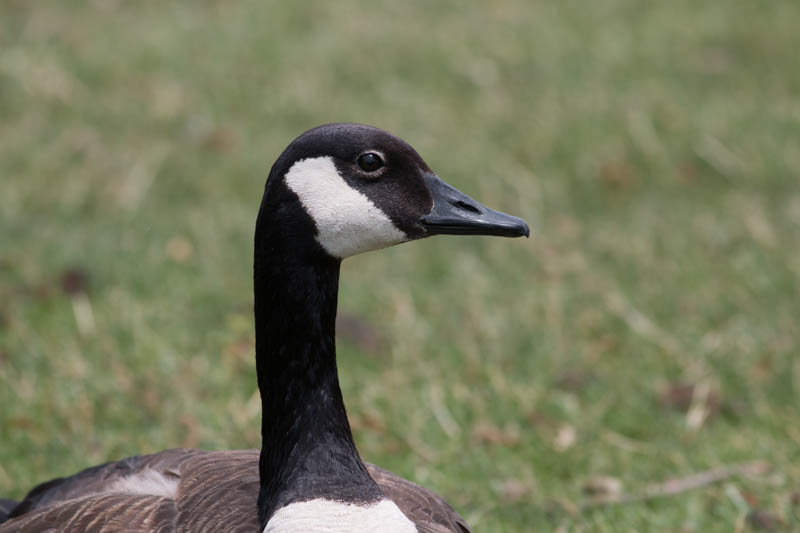goose-head: (254, 122, 532, 261)
